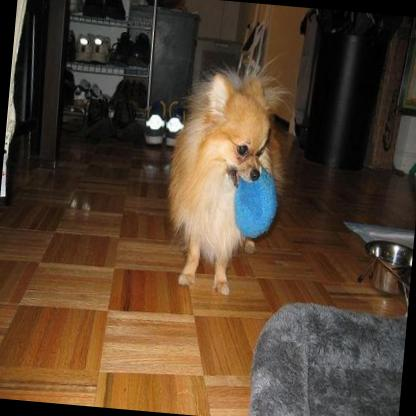Pomeranian: (157, 52, 290, 298)
